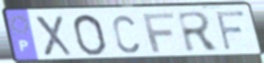C: (111, 13, 142, 55)
F: (140, 11, 176, 54), (214, 9, 248, 53)
O: (71, 13, 109, 57)
R: (175, 10, 222, 54)
X: (32, 14, 75, 58)
